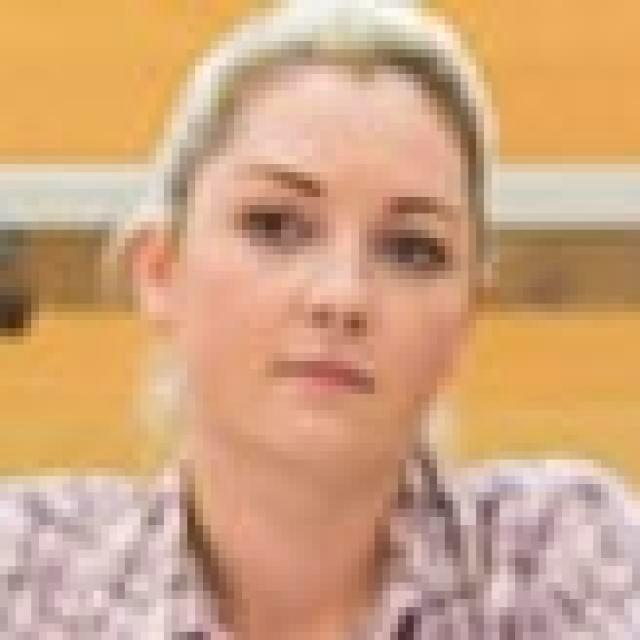Looking forward: (175, 70, 484, 472)
